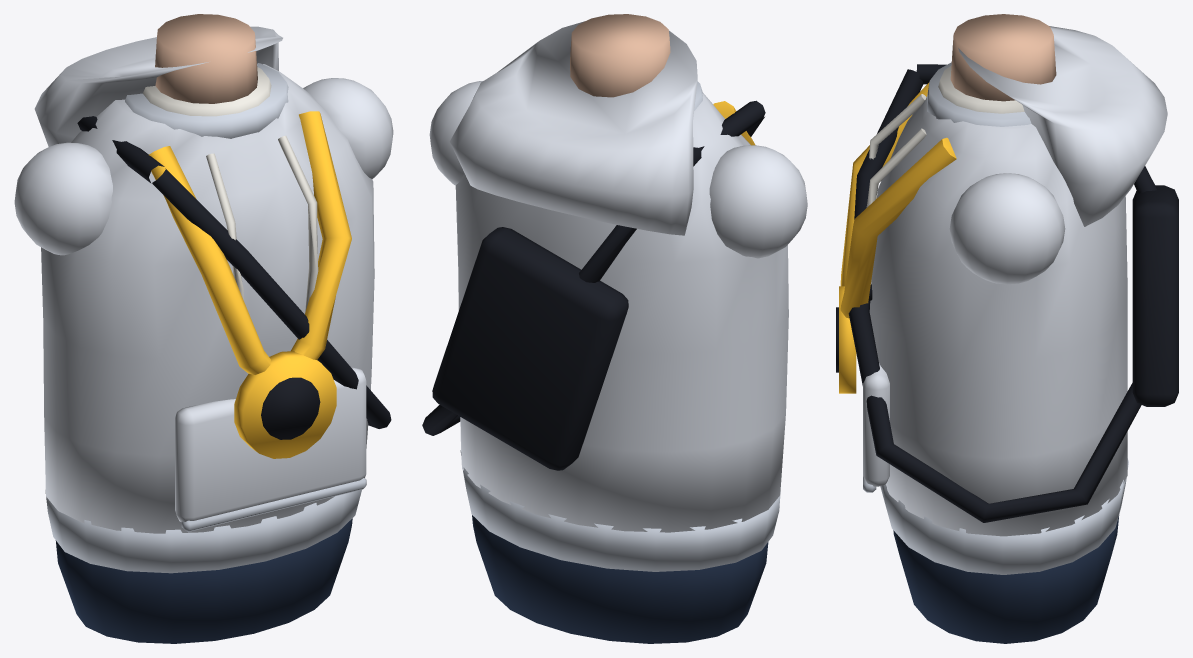
Rendered from coder_torso_chain.glb.
The picture shows the model from 3 angles, left to right: view 1: azimuth 30°, elevation 25°; view 2: azimuth 150°, elevation 25°; view 3: azimuth 270°, elevation 25°; orthographic projection.
Visible parts, largest first — view 1: CoderPart; view 2: CoderPart; view 3: CoderPart.
Part boxes in pixels (x1,y1,x2,y2): CoderPart: (14,14,393,643); CoderPart: (422,14,807,643); CoderPart: (836,14,1178,643).
Size of the model in its own units: 0.428 by 0.633 by 0.356.
